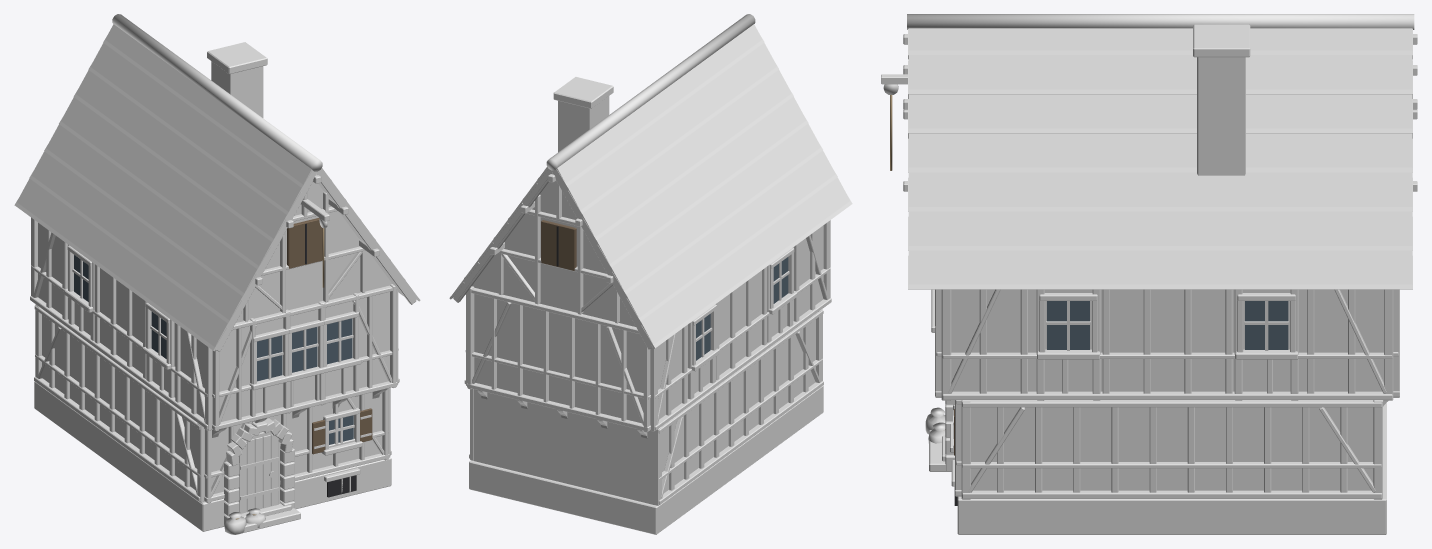
File: ville_06_pignon_tisserand.fbx
The picture shows the model from 3 angles, left to right: view 1: azimuth 30°, elevation 25°; view 2: azimuth 150°, elevation 25°; view 3: azimuth 270°, elevation 25°; orthographic projection. The views are drawn at different scales.
Visible parts, largest first — view 1: ville_06_pignon_tisserand_LOD0; view 2: ville_06_pignon_tisserand_LOD0; view 3: ville_06_pignon_tisserand_LOD0.
Boxes of the visible parts, left/top/right/bottom form: ville_06_pignon_tisserand_LOD0: left=14, top=14, right=420, bottom=534; ville_06_pignon_tisserand_LOD0: left=449, top=14, right=852, bottom=534; ville_06_pignon_tisserand_LOD0: left=881, top=14, right=1417, bottom=534.
Size of what is drawn, in the model's own units: 5.22 by 8.85 by 9.2.
